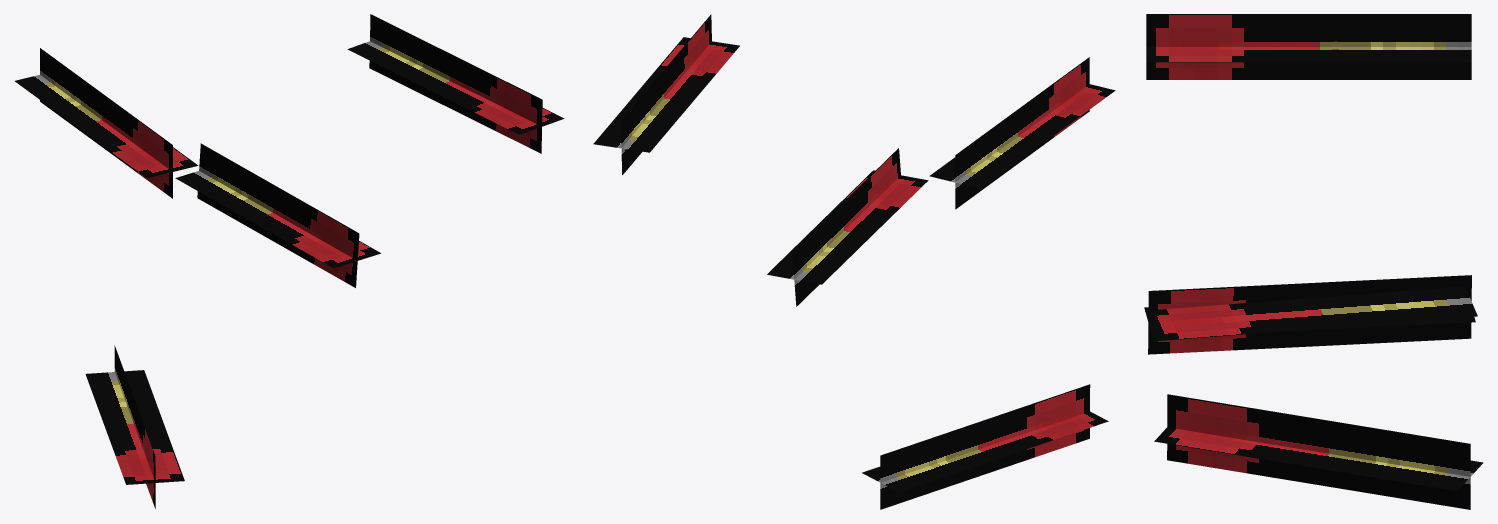
The model's file is DartBoardDarts.obj.
3 views of the same model, side by side, from view 1: azimuth 30°, elevation 25°; view 2: azimuth 150°, elevation 25°; view 3: azimuth 270°, elevation 25° (orthographic). The views are drawn at different scales.
Visible parts, largest first — view 1: DartsInDartBoard; view 2: DartsInDartBoard; view 3: DartsInDartBoard.
Boxes of the visible parts, <box> form: DartsInDartBoard: <box>14,14,564,508</box>; DartsInDartBoard: <box>593,14,1115,509</box>; DartsInDartBoard: <box>1144,14,1483,509</box>.
Bounding box in the file's own units: 1.42 × 1.17 × 0.7955.
